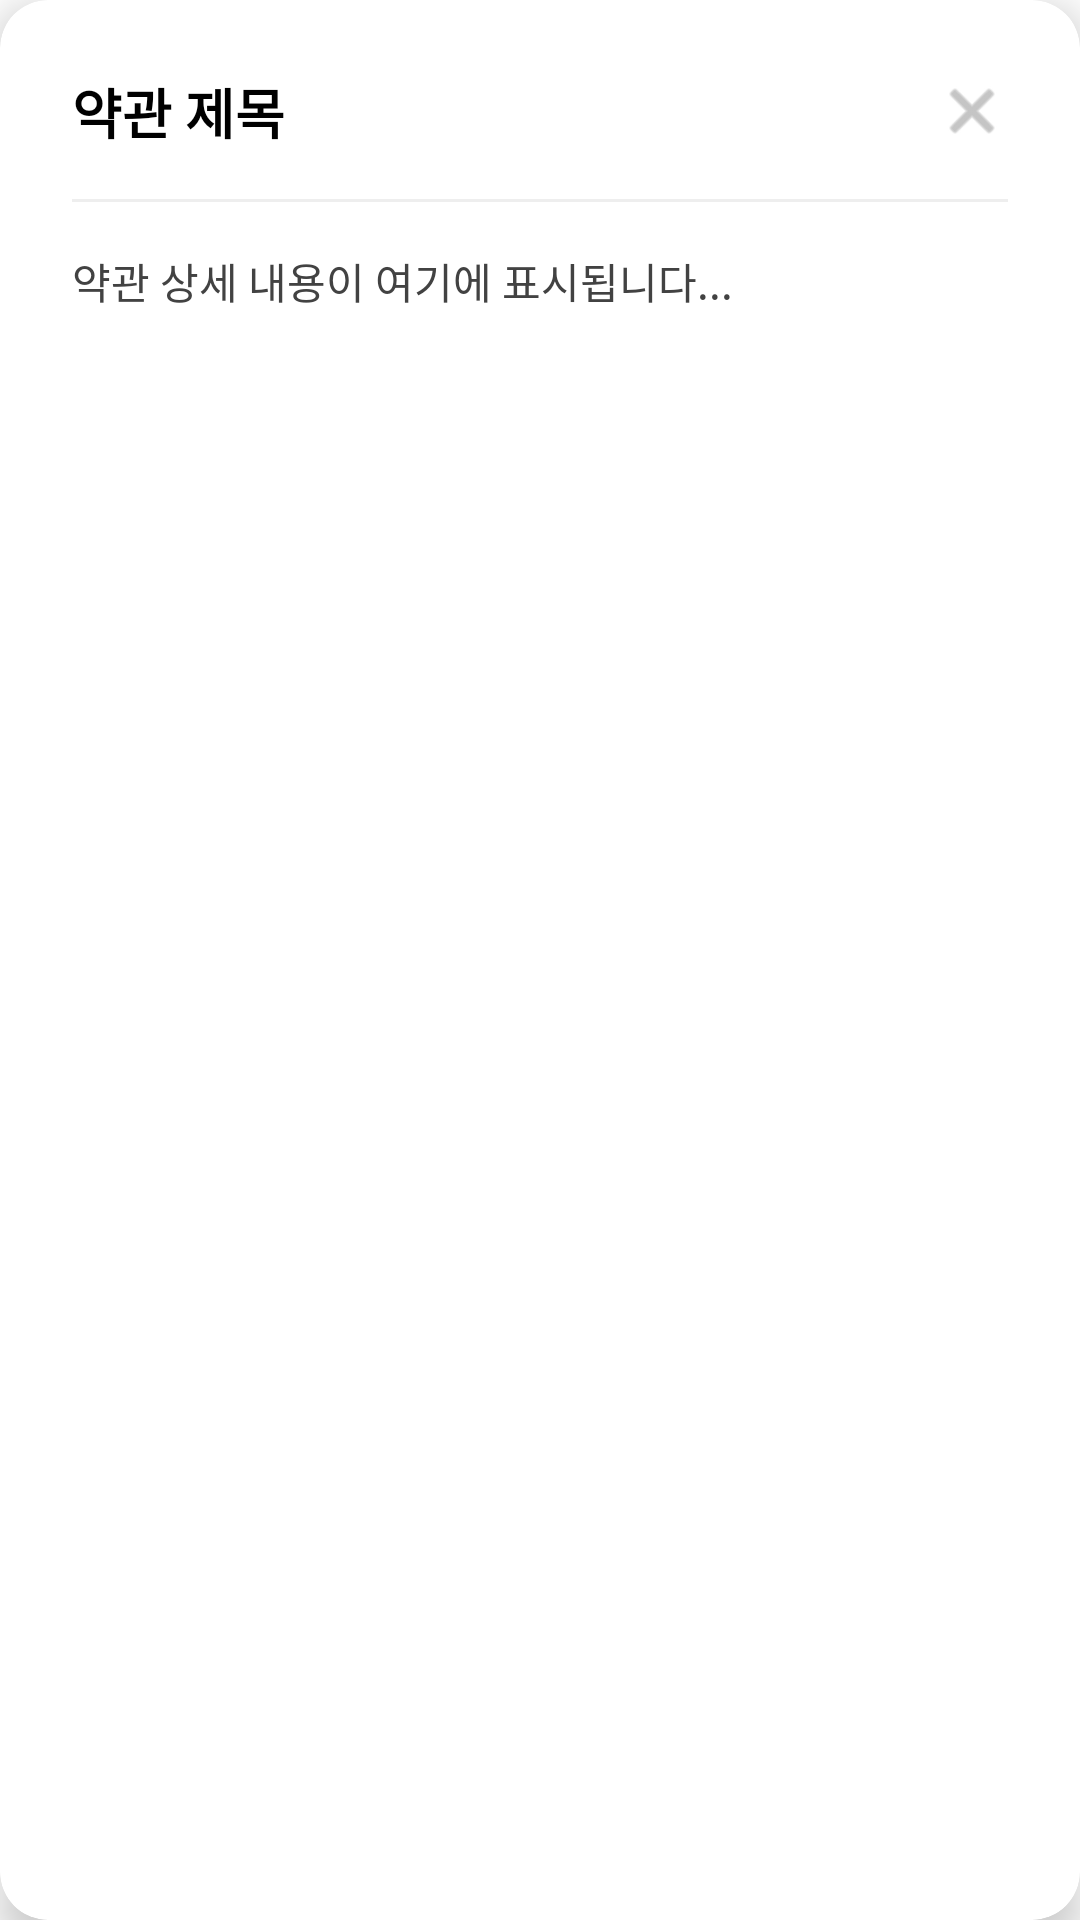

Screen size 1080x1920. Icon name, then its center in pixels as [x,y]:
close clear cancel: [972,111]
